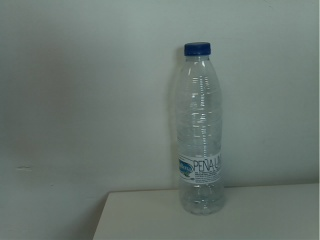botella plastico: (173, 38, 230, 217)
